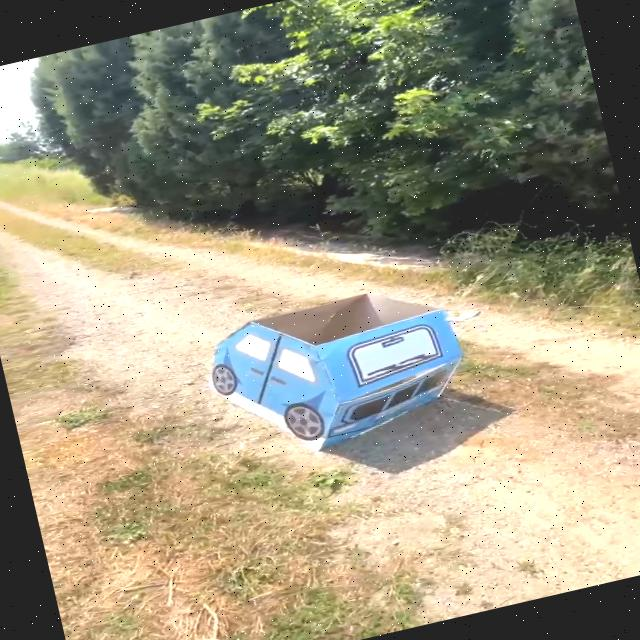blue_car: (182, 256, 508, 485)
